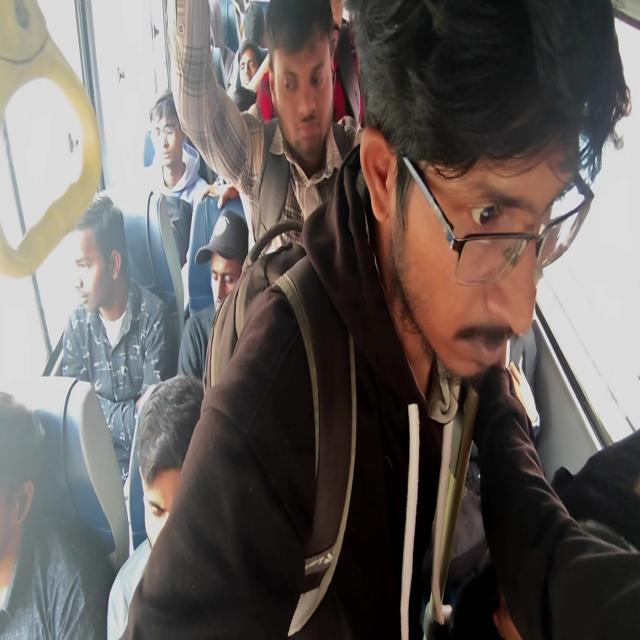person: (118, 0, 635, 638), (167, 0, 358, 262), (56, 192, 170, 553), (0, 391, 113, 638), (106, 373, 205, 638), (142, 90, 218, 314), (177, 208, 249, 381), (136, 373, 204, 552), (145, 90, 216, 211)
